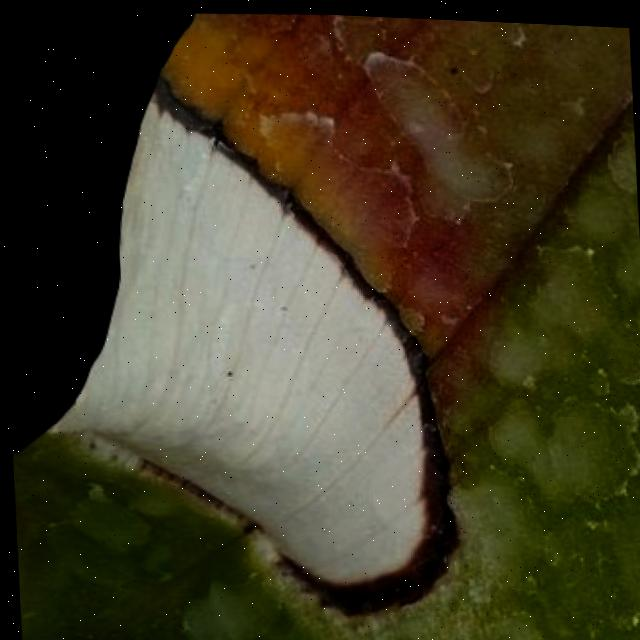mite: (0, 11, 218, 456), (466, 630, 527, 640), (220, 360, 238, 380), (222, 364, 234, 376), (448, 60, 462, 70)
spots: (0, 11, 640, 640)
sunburn: (150, 79, 468, 618)
